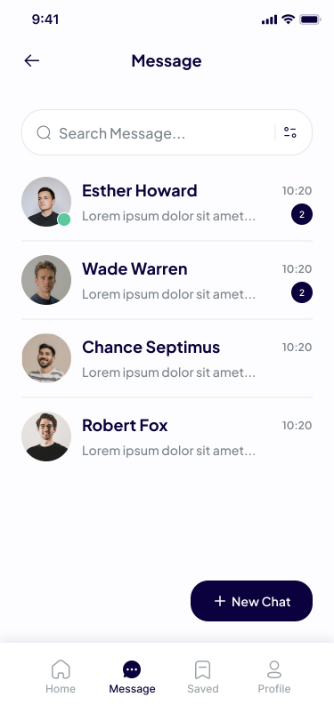BottomBar: (1, 640, 334, 718)
